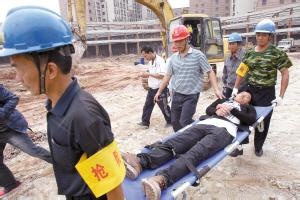blue: (1, 6, 78, 101), (252, 18, 277, 46), (225, 31, 242, 50)
none: (233, 88, 253, 109), (140, 45, 154, 62)
red: (170, 24, 191, 52)
